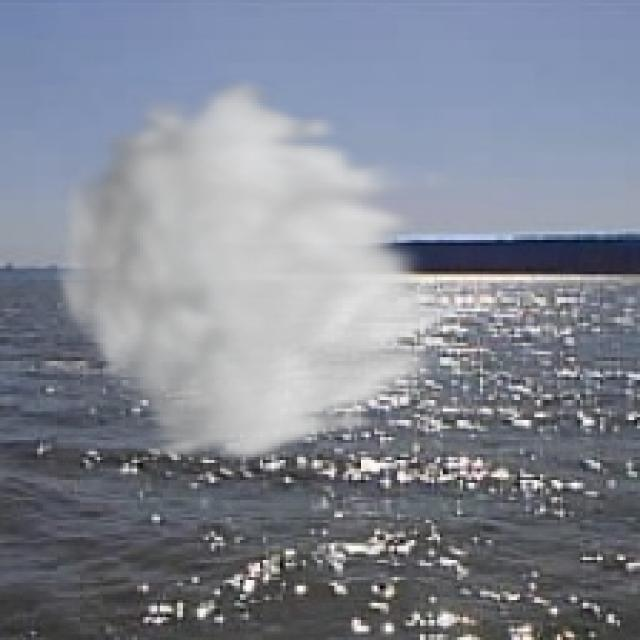smoke: (49, 74, 472, 466)
